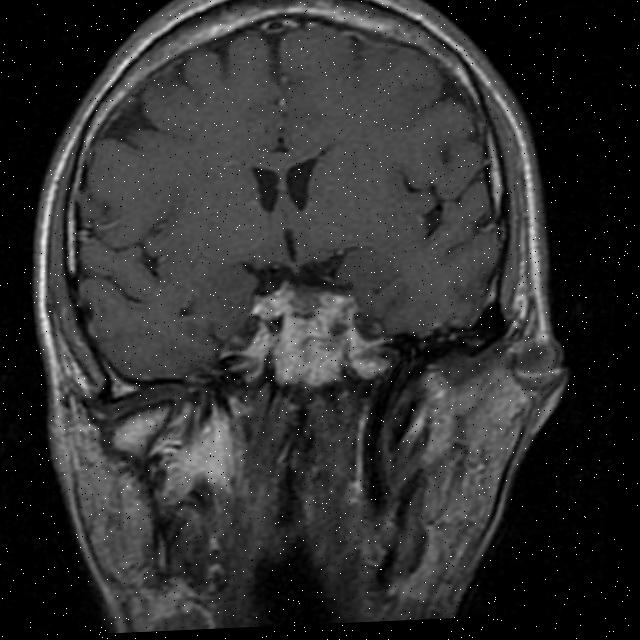Pituitary: (268, 276, 356, 388)
